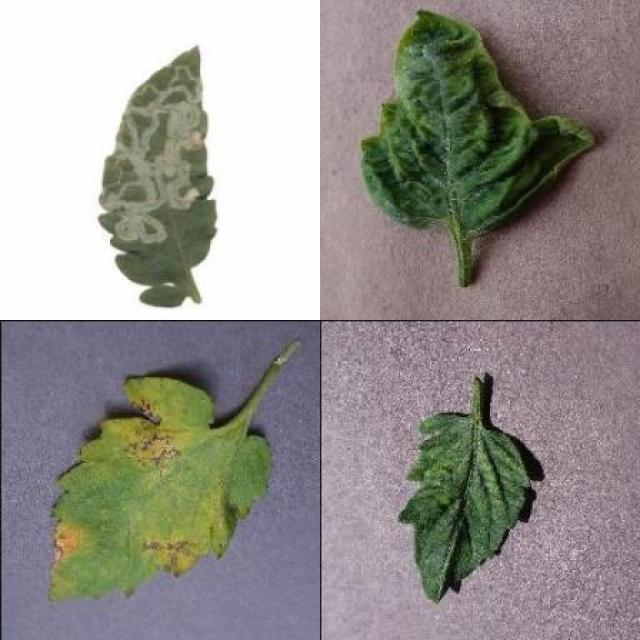Leaf Miner: (95, 46, 218, 308)
Mosaic Virus: (396, 410, 530, 603)
Septoria: (48, 375, 268, 602)
Yellow Leaf Curl Virus: (357, 7, 597, 242)
